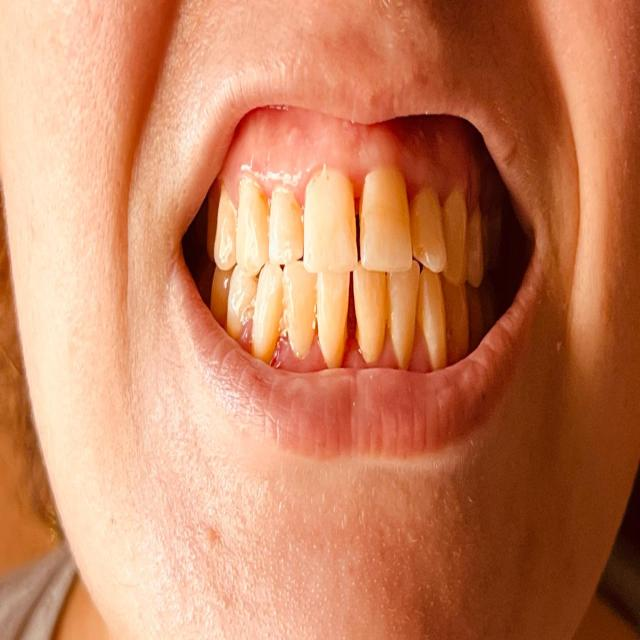tooth: (298, 165, 360, 275), (360, 159, 413, 270), (258, 268, 310, 346), (353, 266, 386, 362), (235, 181, 267, 273), (318, 273, 344, 362), (269, 192, 301, 260), (391, 277, 417, 352)
